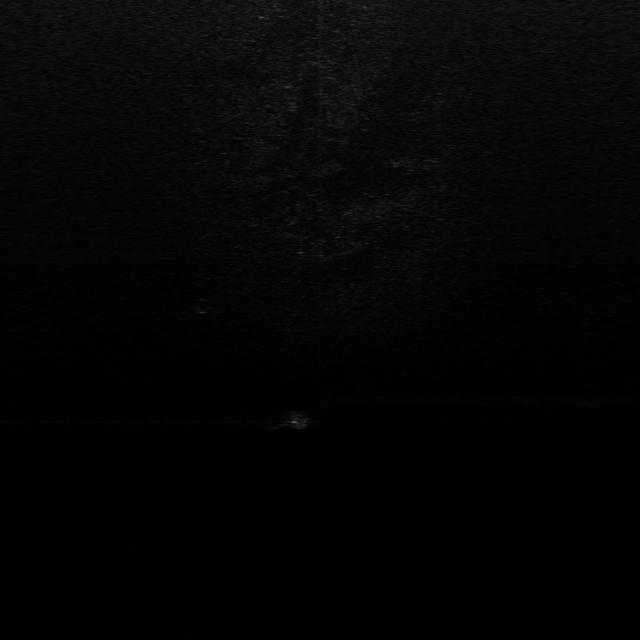ball: (278, 405, 316, 430)
circle cage: (190, 295, 210, 312)
